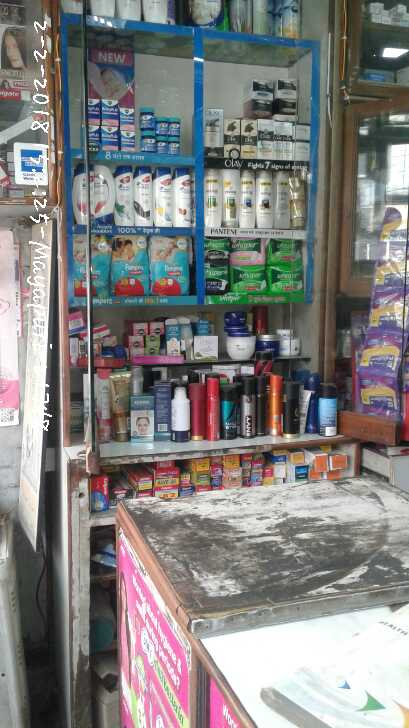vicks: (84, 80, 186, 152)
